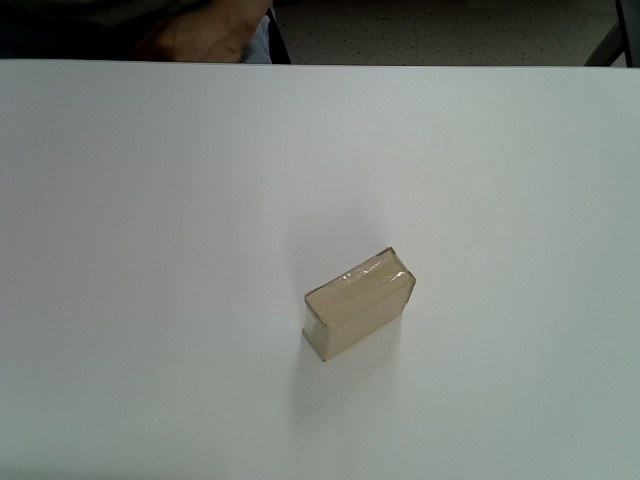normal: (301, 244, 417, 363)
